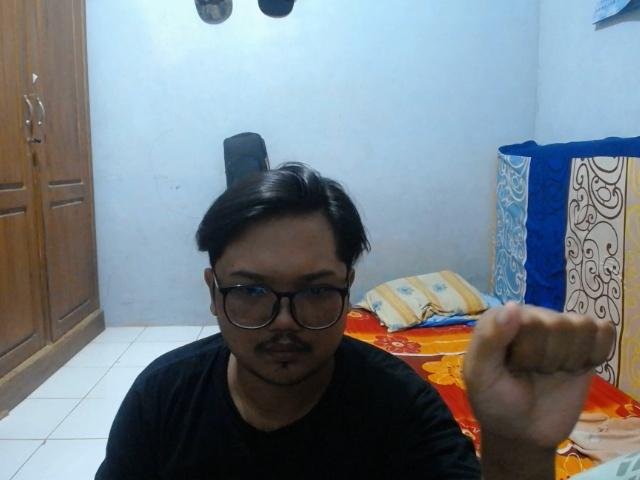Grab: (453, 296, 619, 457)
